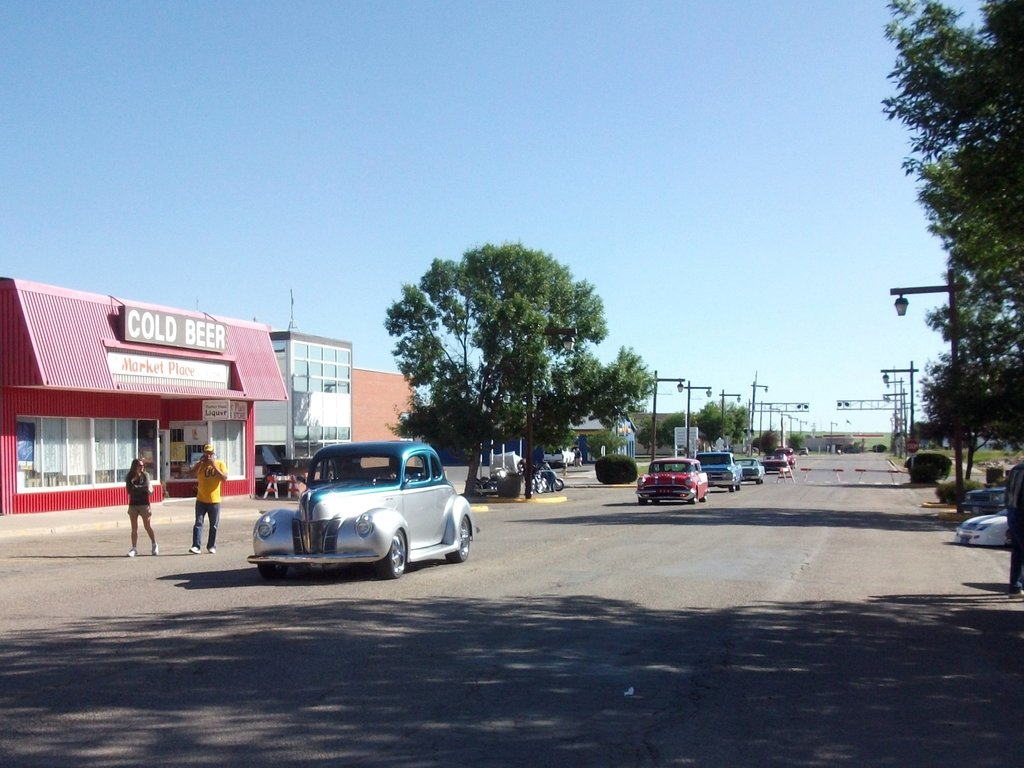Car: (247, 439, 472, 586), (631, 452, 709, 504), (955, 505, 1016, 548), (693, 449, 738, 495), (759, 450, 795, 470), (737, 455, 763, 481)
